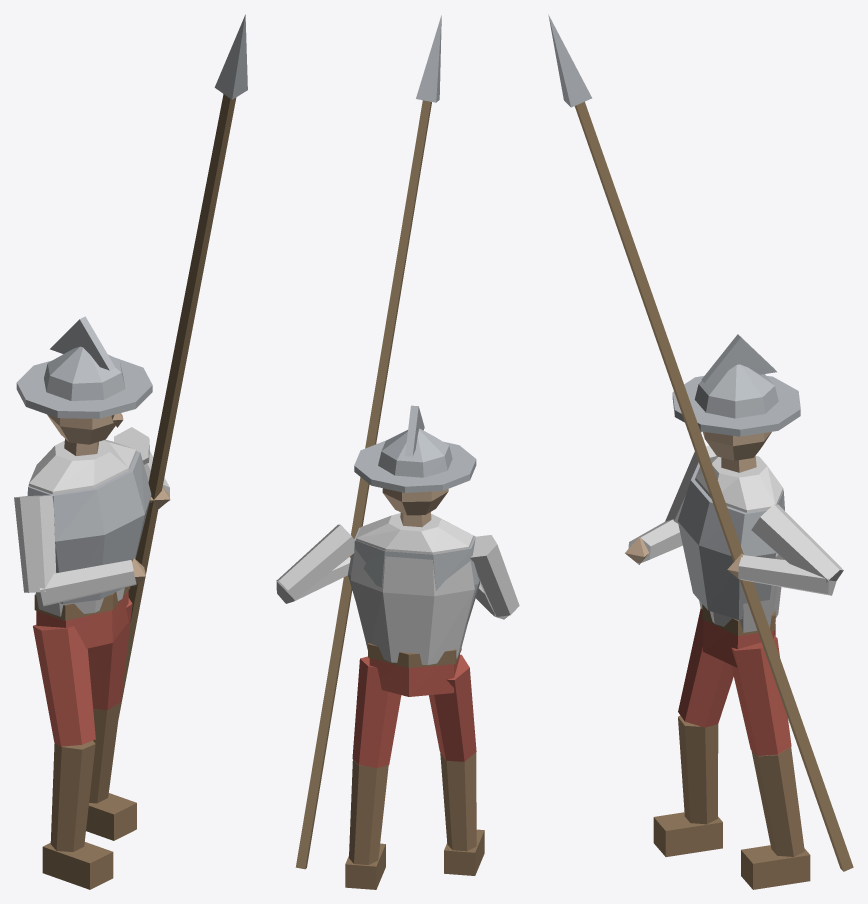
The model's file is tercio.glb.
The picture shows the model from 3 angles, left to right: view 1: azimuth 30°, elevation 25°; view 2: azimuth 150°, elevation 25°; view 3: azimuth 270°, elevation 25°; orthographic projection. The views are drawn at different scales.
Parts seen in each view (by area): view 1: LOD0; view 2: LOD0; view 3: LOD0.
Boxes of the visible parts, x1,y1,x2,y2 form: LOD0: (14,14,247,889); LOD0: (276,15,519,889); LOD0: (548,14,853,889).
Size of what is drawn, in the model's own units: 0.408 by 1.75 by 0.5502.
